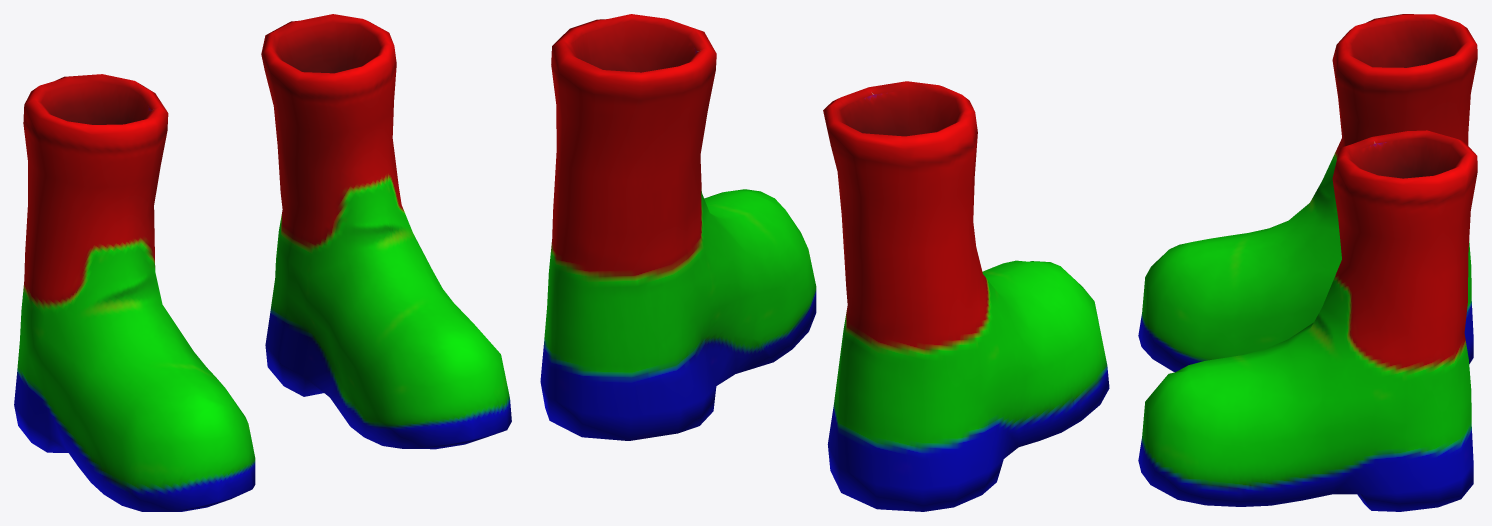
File: Feet_BigBoots.obj
3 renders of one model, left to right at view 1: azimuth 30°, elevation 25°; view 2: azimuth 150°, elevation 25°; view 3: azimuth 270°, elevation 25°, orthographic. The views are drawn at different scales.
Parts seen in each view (by area): view 1: Feet_BigBoots_0; view 2: Feet_BigBoots_0; view 3: Feet_BigBoots_0.
Boxes of the visible parts, box(x1,y1,x2,y2) form: Feet_BigBoots_0: box(14, 14, 511, 511); Feet_BigBoots_0: box(540, 14, 1109, 511); Feet_BigBoots_0: box(1138, 14, 1477, 511).
Bounding box in the file's own units: 0.3459 × 0.2854 × 0.2642.
1 material, 1 textured.
